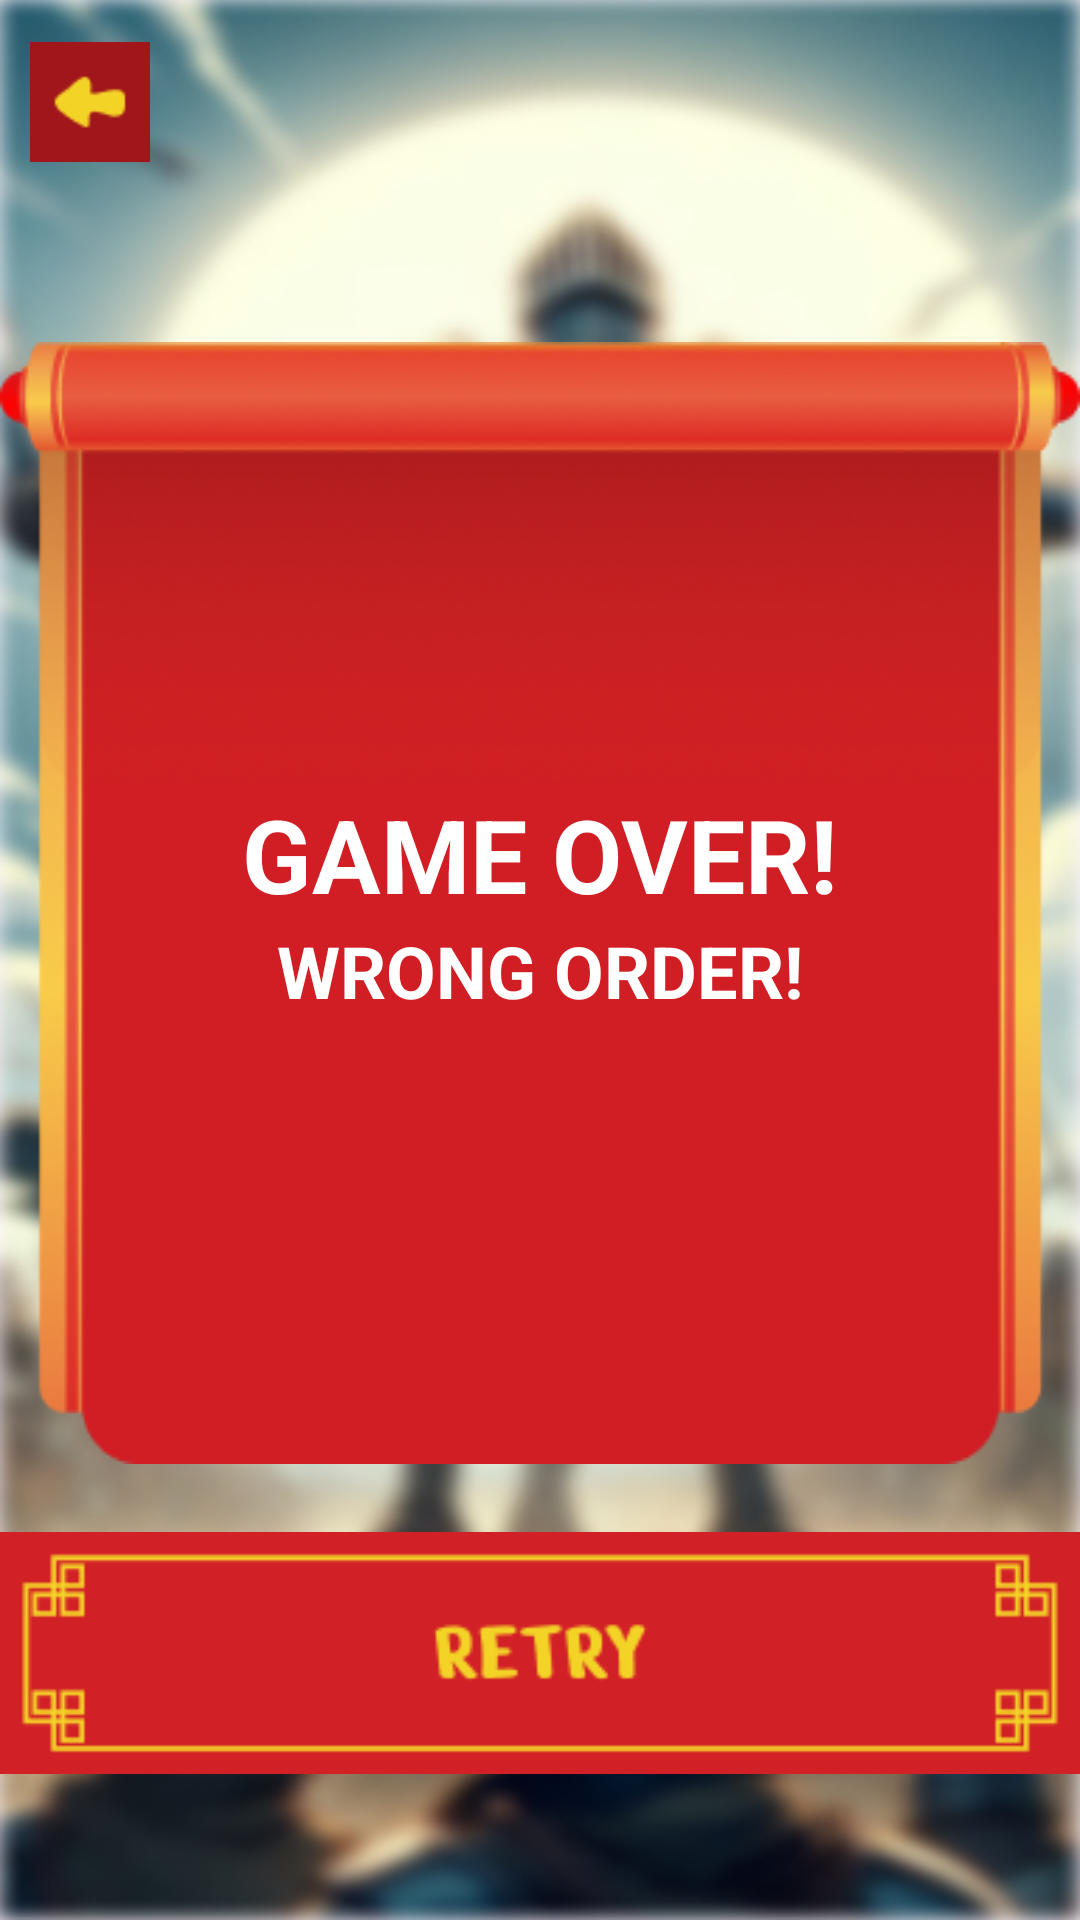

Icons on this 1080×1920 Android screen, each with the point to tap as point (x, y):
backbtn: point (90, 102)
